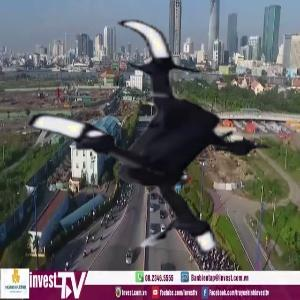drone: (25, 12, 300, 287)
